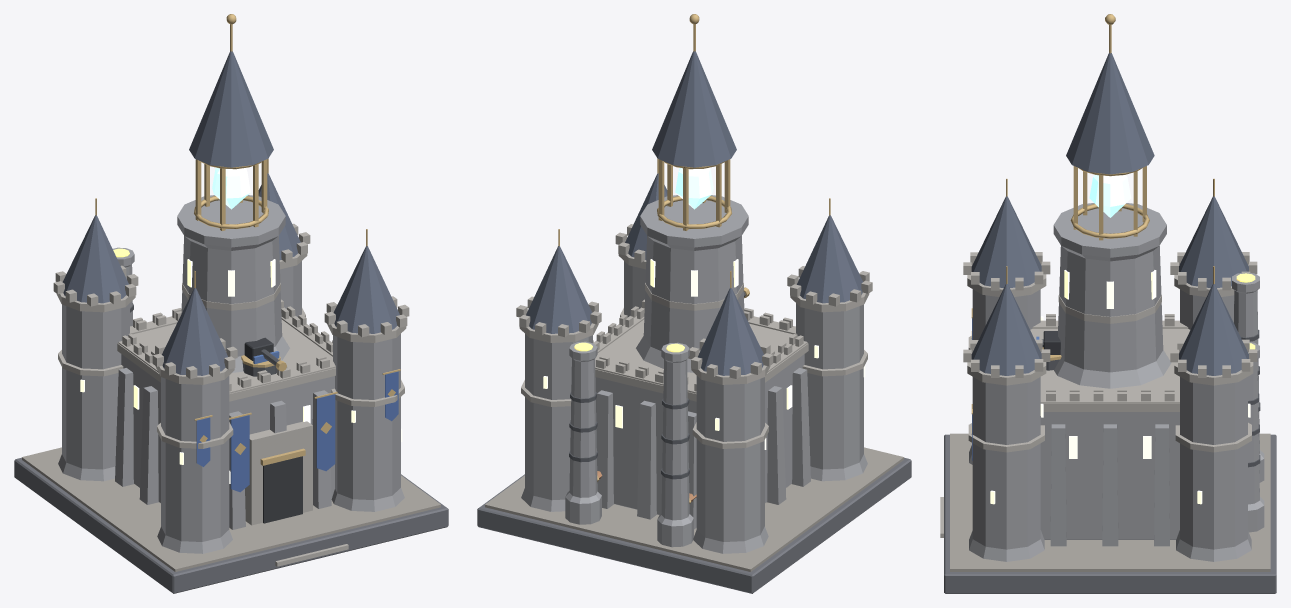
Rendered from citadel.glb.
3 renders of one model, left to right at view 1: azimuth 30°, elevation 25°; view 2: azimuth 150°, elevation 25°; view 3: azimuth 270°, elevation 25°, orthographic. The views are drawn at different scales.
Visible parts, largest first — view 1: citadel, turret; view 2: citadel; view 3: citadel, turret.
Boxes of the visible parts, <box> form: citadel: <box>14,14,448,593</box>; turret: <box>241,337,286,376</box>; citadel: <box>477,14,911,593</box>; citadel: <box>940,14,1276,593</box>; turret: <box>1036,331,1061,370</box>.
Size of the model in its own units: 27 by 45.65 by 27.3.
